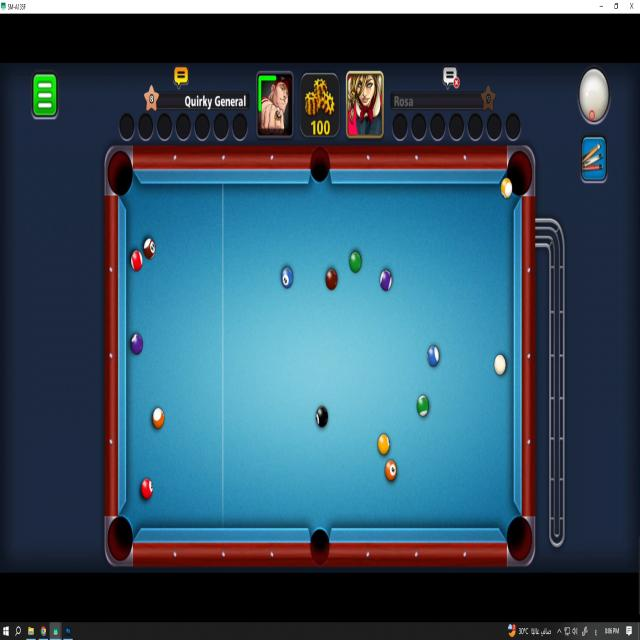object_ball: (281, 266, 293, 288), (501, 177, 512, 199), (378, 434, 389, 455), (380, 270, 391, 291), (316, 406, 327, 427), (385, 460, 396, 481), (131, 251, 142, 271), (326, 270, 337, 290), (417, 396, 428, 416), (144, 239, 155, 259), (131, 334, 142, 354), (153, 408, 164, 428), (350, 252, 361, 272), (142, 479, 152, 499), (428, 346, 438, 366)
white_cue_ball: (494, 355, 505, 375)
